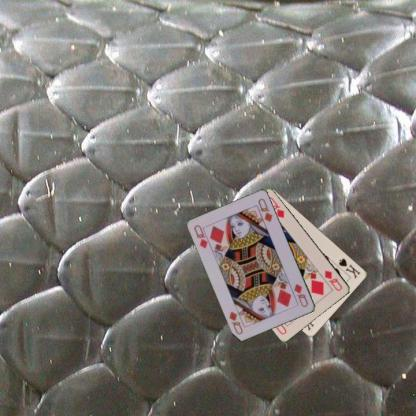Ks: (336, 255, 362, 280)
Qd: (192, 222, 213, 250), (322, 268, 344, 292), (292, 281, 310, 308)
